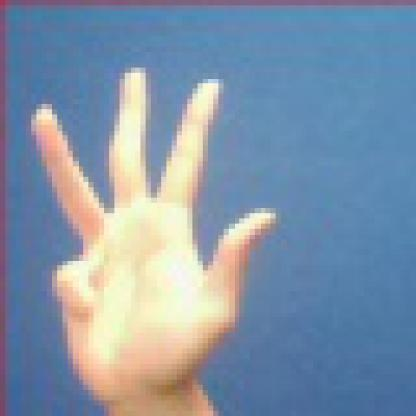nine: (11, 48, 290, 413)
